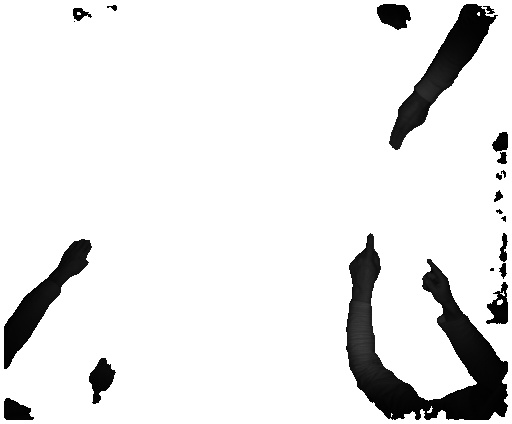hand: (344, 232, 383, 293), (384, 100, 429, 151), (56, 232, 95, 283), (416, 256, 455, 306)
